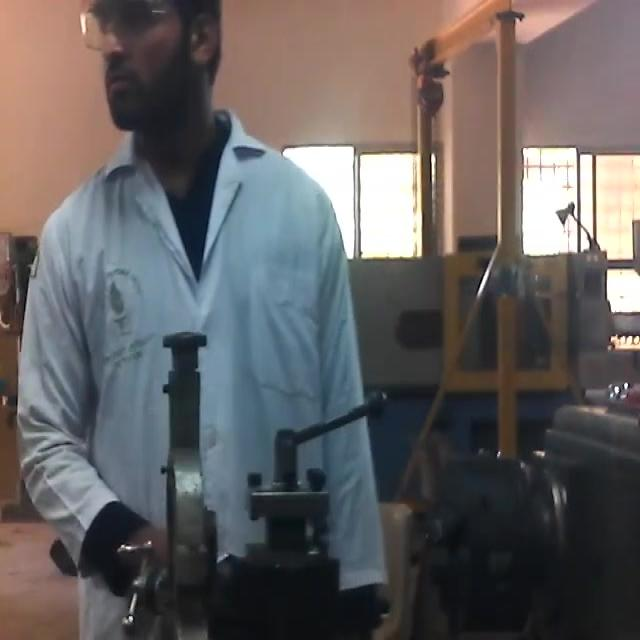googles: (79, 0, 165, 53)
labcoat: (15, 106, 387, 632)
